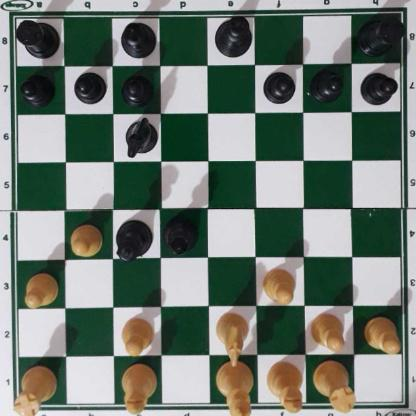black-bishop: (162, 214, 198, 254), (119, 19, 157, 56)
black-king: (212, 15, 253, 58)
black-knight: (123, 116, 156, 155)
black-pawn: (360, 69, 396, 105), (20, 72, 54, 104), (263, 68, 295, 102), (311, 68, 343, 101), (73, 70, 104, 104), (121, 71, 152, 105)
black-queen: (113, 218, 152, 262)
black-rook: (358, 10, 402, 55), (12, 16, 59, 58)
white-bishop: (265, 360, 304, 414), (122, 362, 158, 414)
white-king: (215, 358, 256, 416)
white-knight: (215, 311, 249, 364)
white-pawn: (309, 310, 347, 349), (363, 314, 400, 351), (67, 221, 104, 257), (120, 315, 154, 354), (22, 271, 58, 307), (262, 266, 296, 304)
white-rook: (312, 363, 357, 413), (16, 360, 56, 415)
